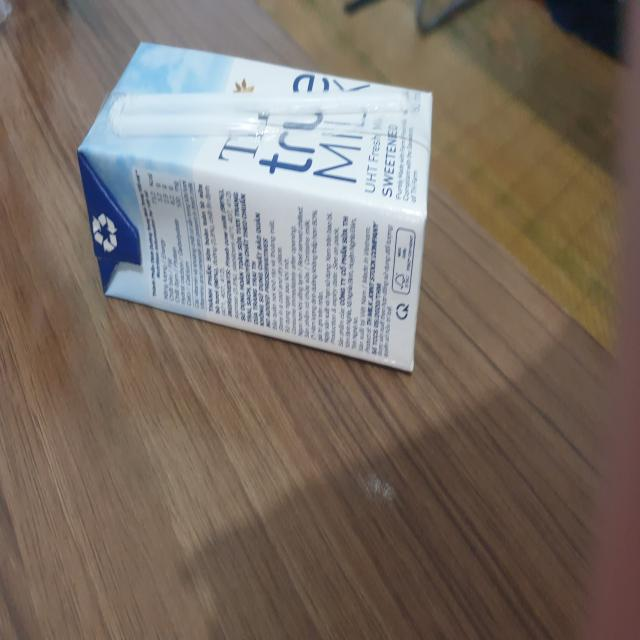TH: (76, 39, 437, 372)
